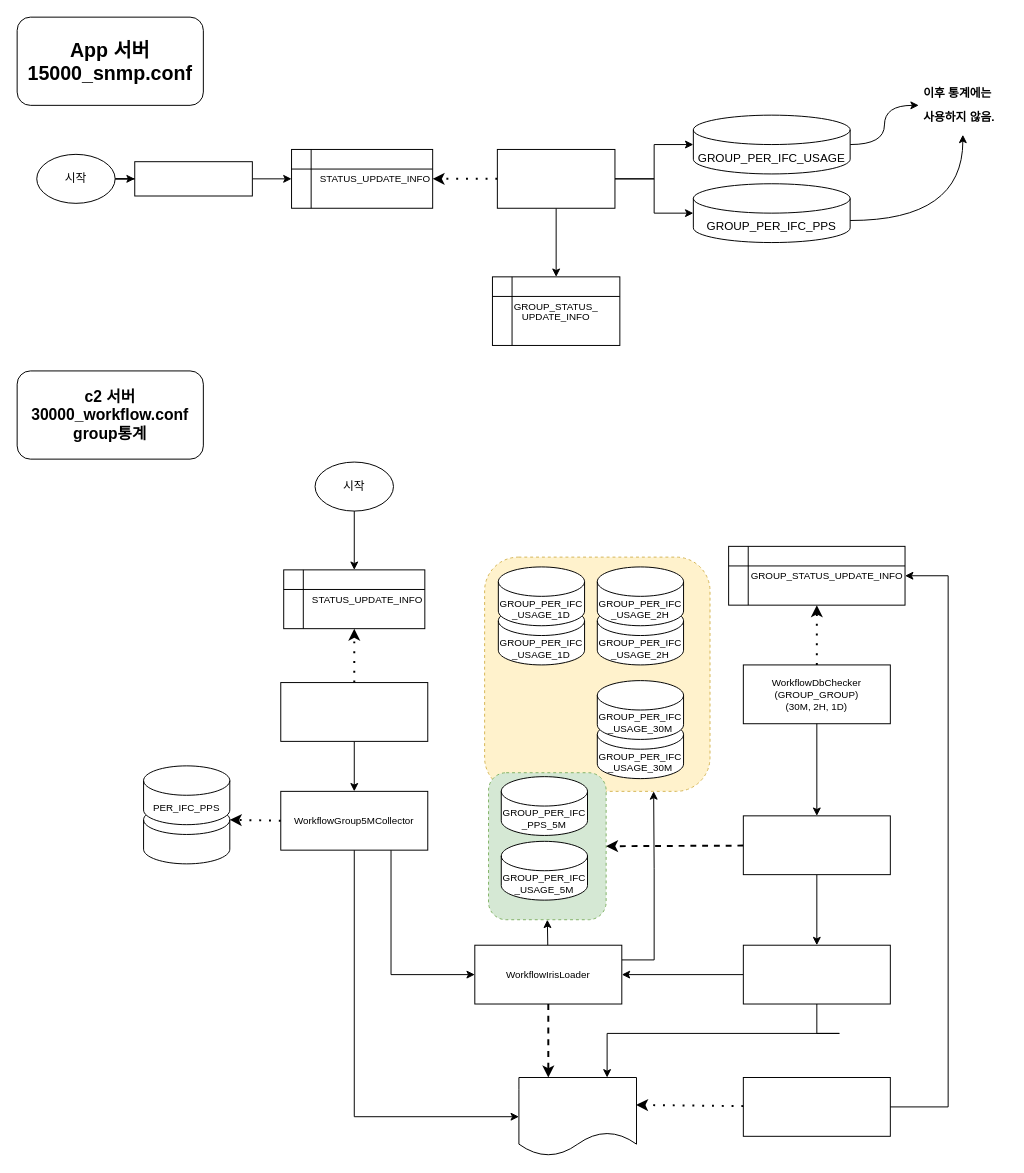
Some shapes in this 1024 by 1173 pixel diagram are drawn without their labels. The box of each missing label's shape, as (x1, y1, x2, y2) in pixels:
PER_IFC_USAGE: (143, 804, 230, 864)
SNMP 수집부: (134, 161, 252, 196)
StatXXXCollector: (496, 148, 615, 208)
WorkflowDbSelectorOthers (GROUP_GROUP) (30M, 2H, 1D): (742, 815, 890, 875)
WorkflowGroupDbChecker: (280, 682, 428, 741)
WorkflowMariadbLoader: (742, 1077, 890, 1136)
WorkflowSummaryOthers (GROUP_GROUP) (30M, 2H, 1D): (742, 944, 890, 1004)
결과 파일: (518, 1077, 637, 1156)
